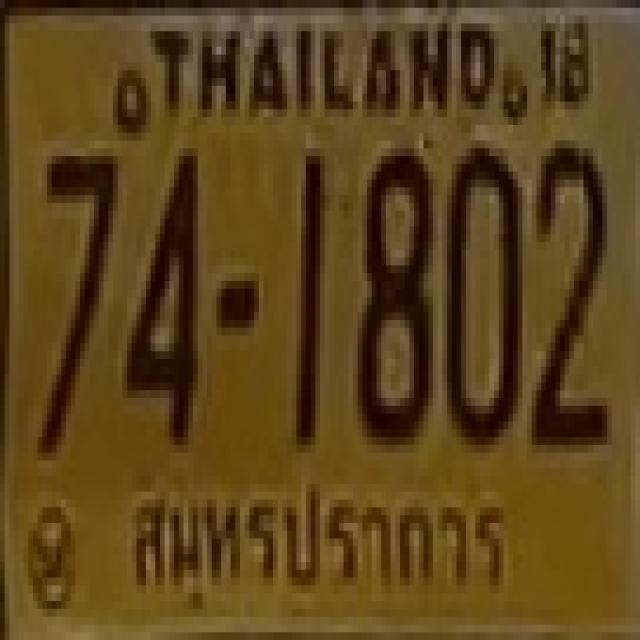0: (442, 141, 518, 437)
1: (292, 148, 320, 445)
2: (529, 140, 605, 445)
4: (122, 144, 198, 441)
7: (40, 148, 115, 453), (42, 148, 113, 359)
8: (353, 148, 428, 437)
SPK: (115, 477, 512, 620)
